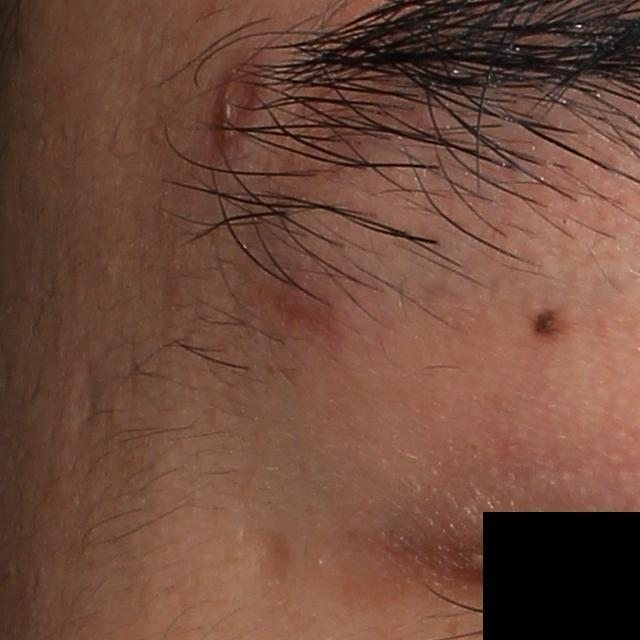atrophic_scar: (68, 357, 105, 442)
melasma: (245, 529, 297, 588)
nevus: (532, 306, 570, 337)
